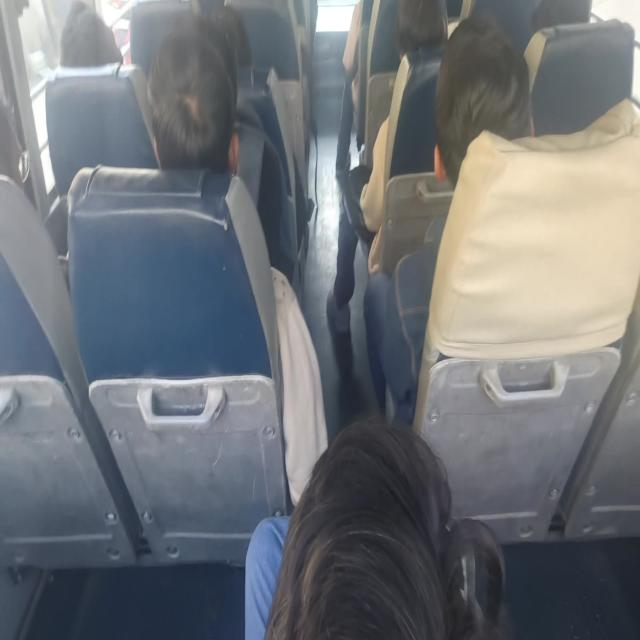person: (252, 412, 504, 640), (144, 30, 246, 186), (434, 34, 532, 190), (388, 0, 448, 89), (189, 0, 259, 74), (0, 79, 34, 212), (59, 4, 123, 68), (526, 0, 595, 49)
